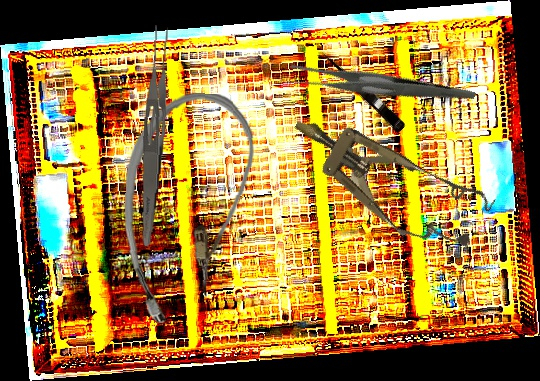Cannula: (121, 90, 256, 327)
Dressing Forceps: (283, 17, 477, 157), (137, 25, 174, 247)
Micro Scissor: (316, 44, 409, 134)
Speculum: (275, 88, 498, 268)
